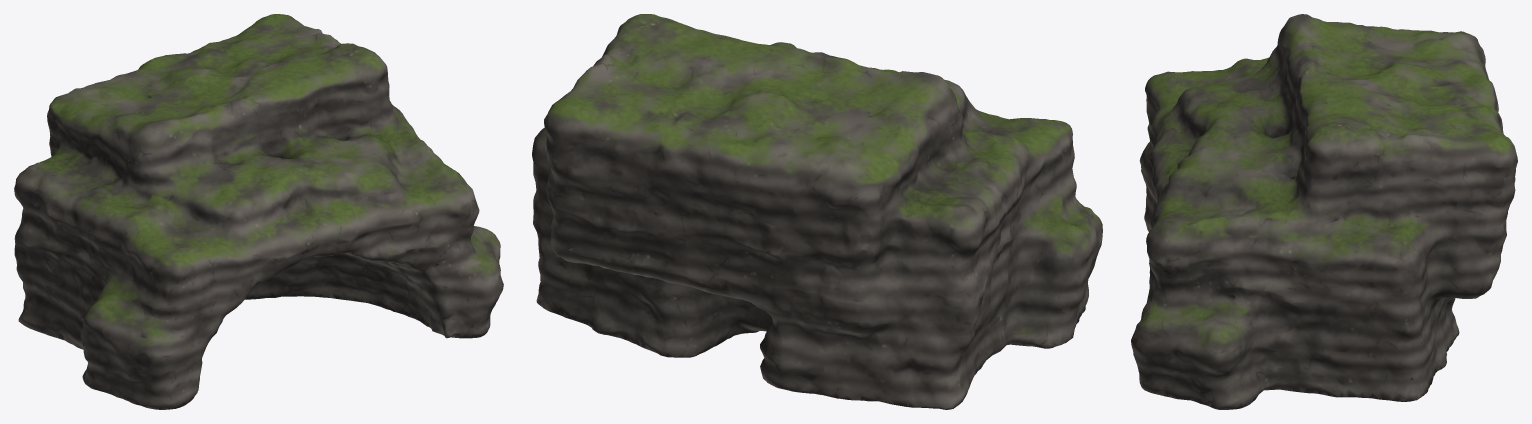
File: den.glb
The picture shows the model from 3 angles, left to right: view 1: azimuth 30°, elevation 25°; view 2: azimuth 150°, elevation 25°; view 3: azimuth 270°, elevation 25°; orthographic projection. The views are drawn at different scales.
Visible parts, largest first — view 1: den; view 2: den; view 3: den.
Part boxes in pixels (<box>): den: <box>14,14,503,409</box>; den: <box>532,14,1102,409</box>; den: <box>1131,14,1517,409</box>.
Bounding box in the file's own units: 24.13 × 12.75 × 18.31.
1 material, 1 textured.
